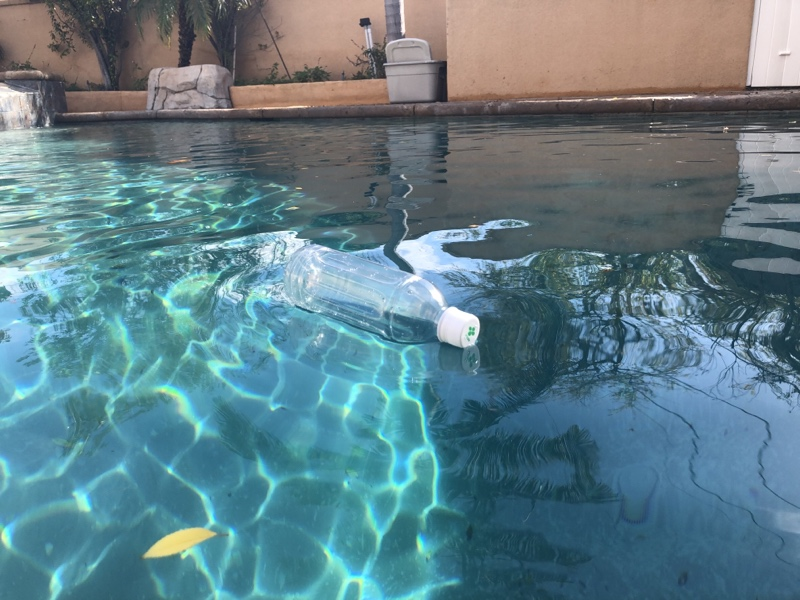Plastic Bottle: (280, 246, 484, 353)
